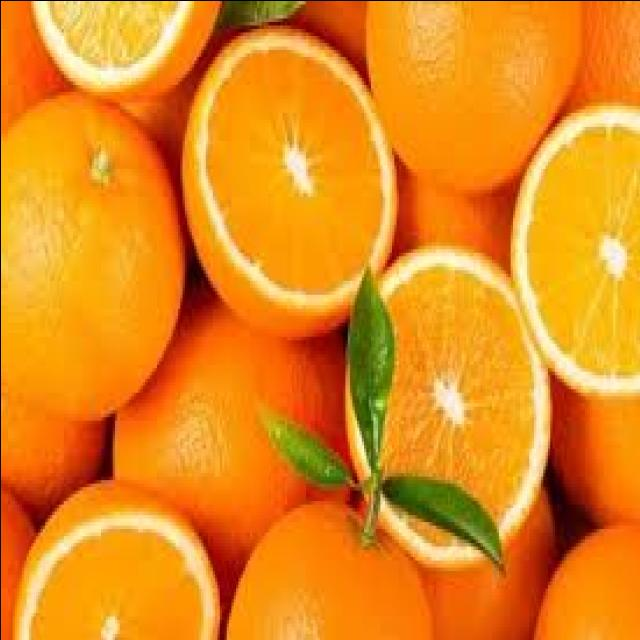orange: (180, 42, 394, 332)
